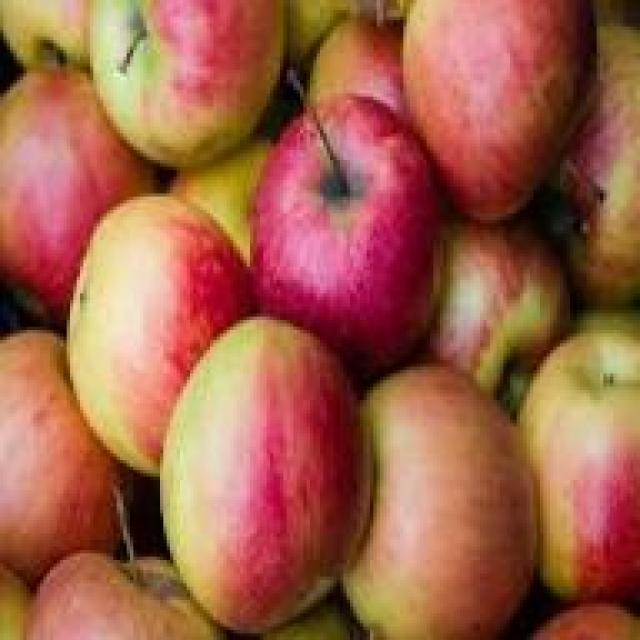apple: (157, 333, 363, 600), (247, 100, 453, 360), (346, 376, 546, 636), (60, 207, 257, 450), (396, 3, 576, 244), (426, 197, 586, 440), (80, 7, 270, 173), (530, 334, 637, 594)
